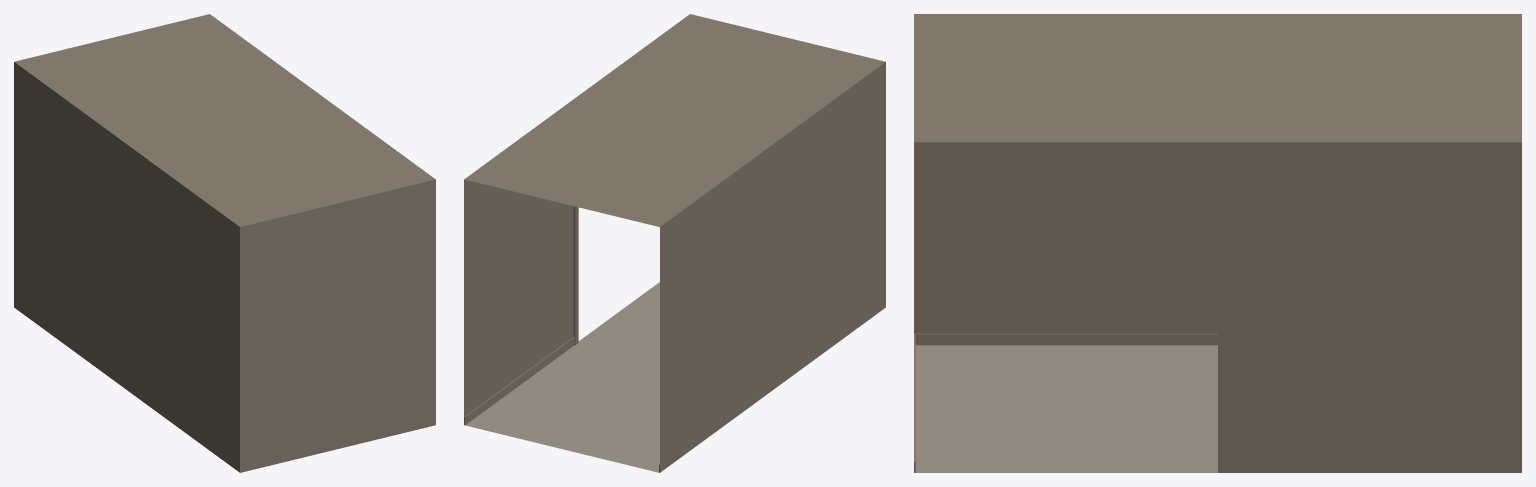
File: armor-hall.glb
3 views of the same model, side by side, from view 1: azimuth 30°, elevation 25°; view 2: azimuth 150°, elevation 25°; view 3: azimuth 270°, elevation 25° (orthographic). The views are drawn at different scales.
Parts seen in each view (by area): view 1: armor-hall; view 2: armor-hall; view 3: armor-hall.
Boxes of the visible parts, left/top/right/bottom form: armor-hall: left=14, top=14, right=435, bottom=472; armor-hall: left=464, top=14, right=885, bottom=472; armor-hall: left=914, top=14, right=1521, bottom=472.
Bounding box in the file's own units: 3 × 3.6 × 6.
